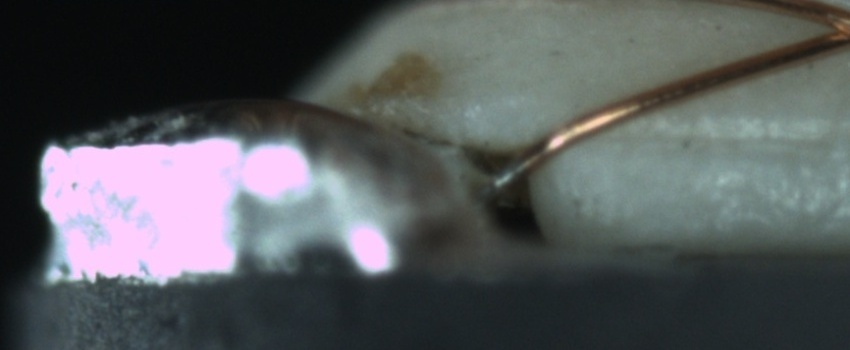DL: (614, 102, 842, 174)
